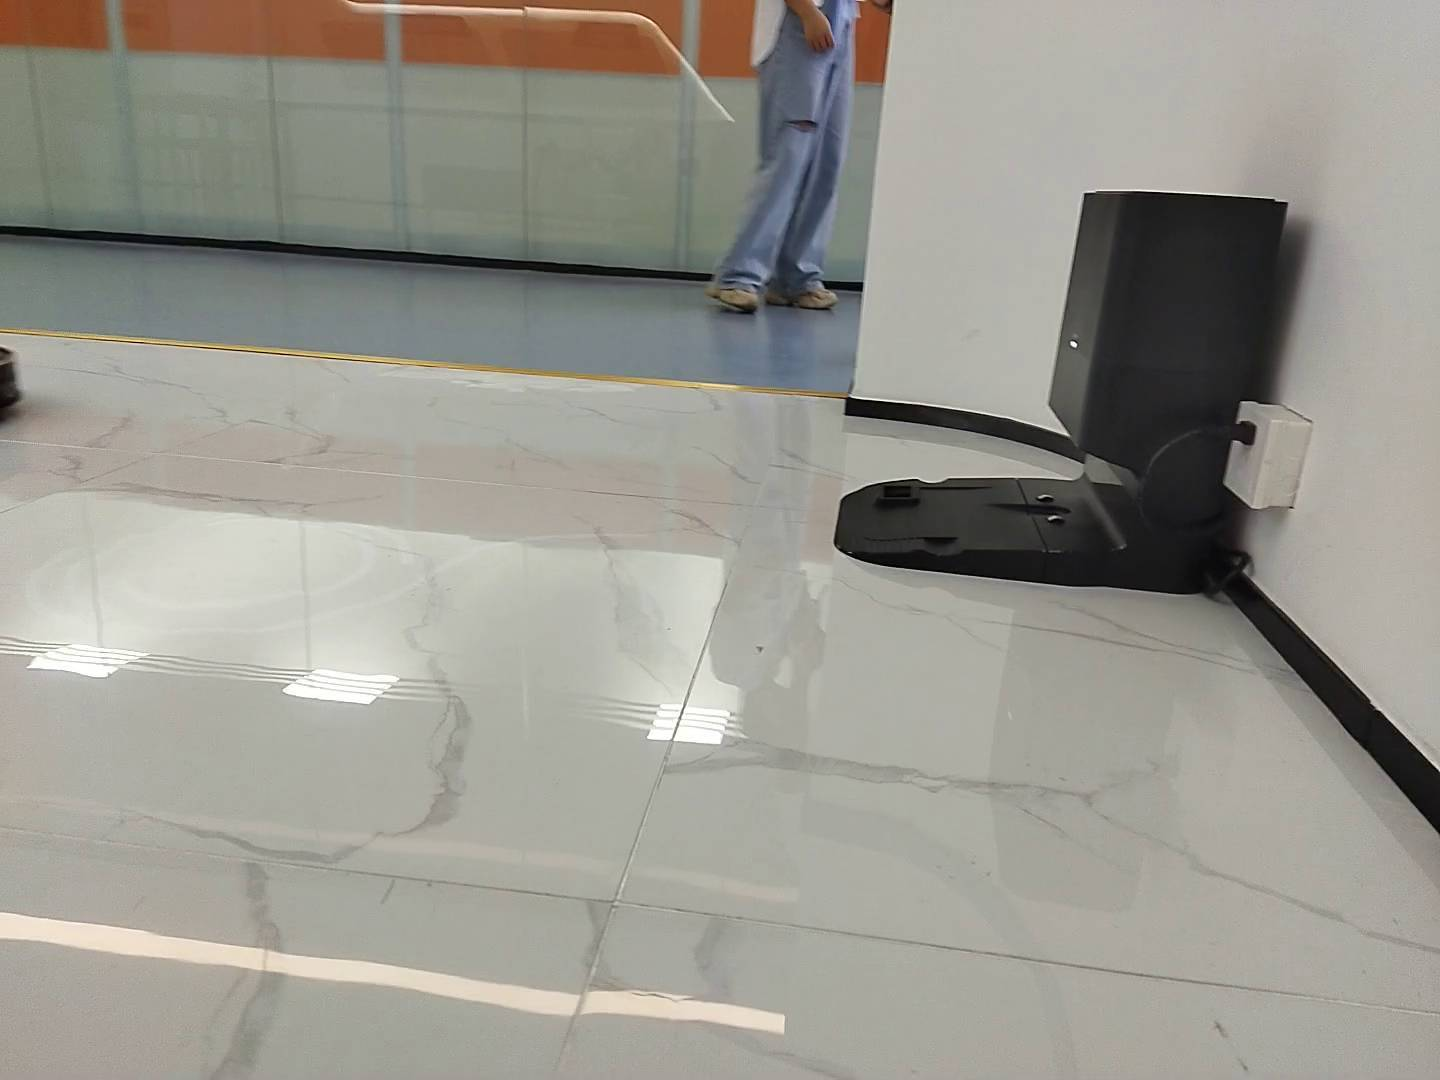dust collecting barrel: (833, 189, 1289, 597)
